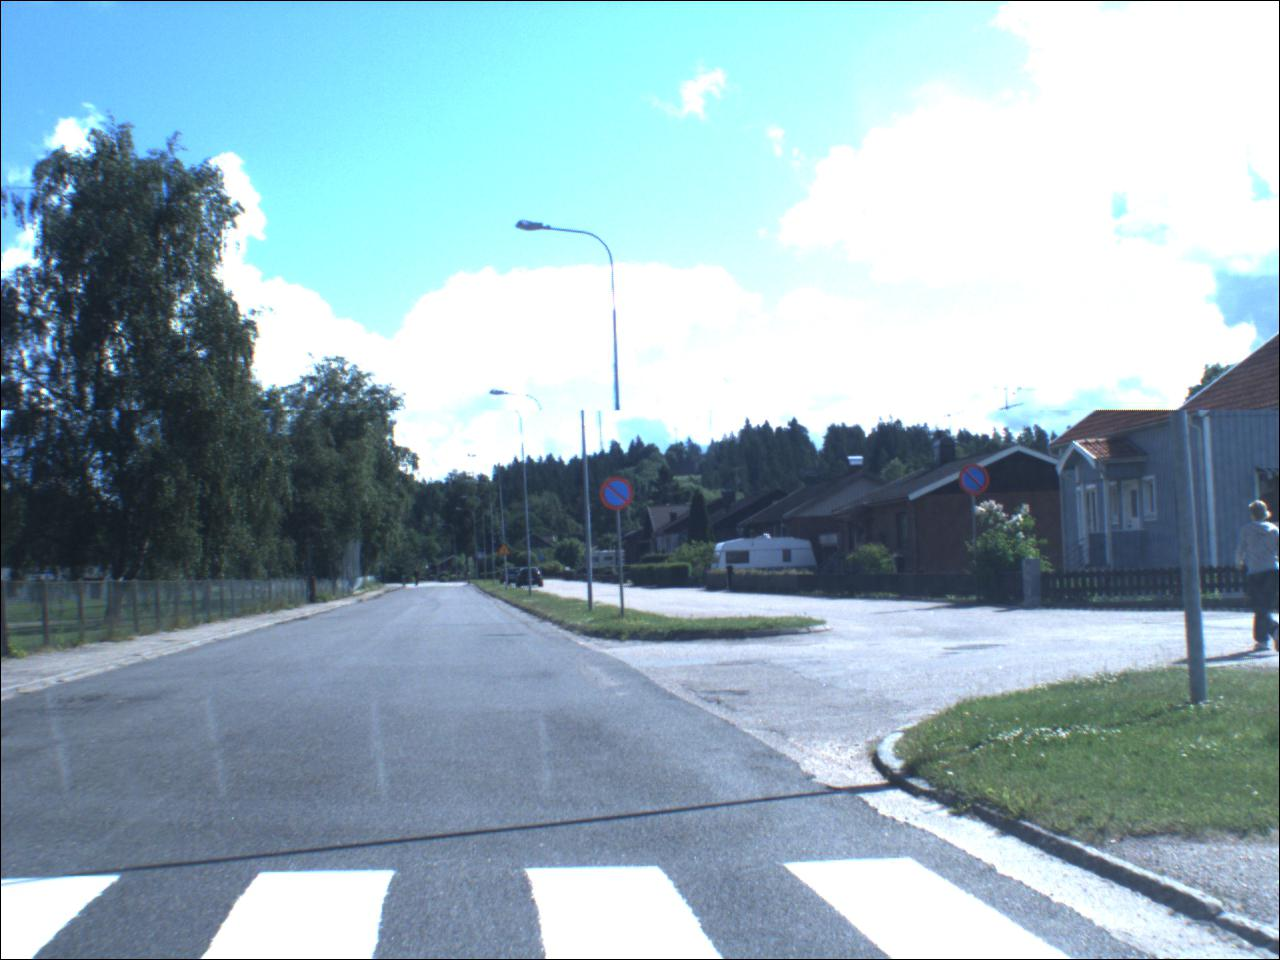NO_PARKING: (600, 470, 638, 513), (959, 458, 997, 501)
PEDESTRIAN_CROSSING: (478, 552, 488, 560)
WARNING_PEDESTRIANS: (500, 545, 514, 559)
